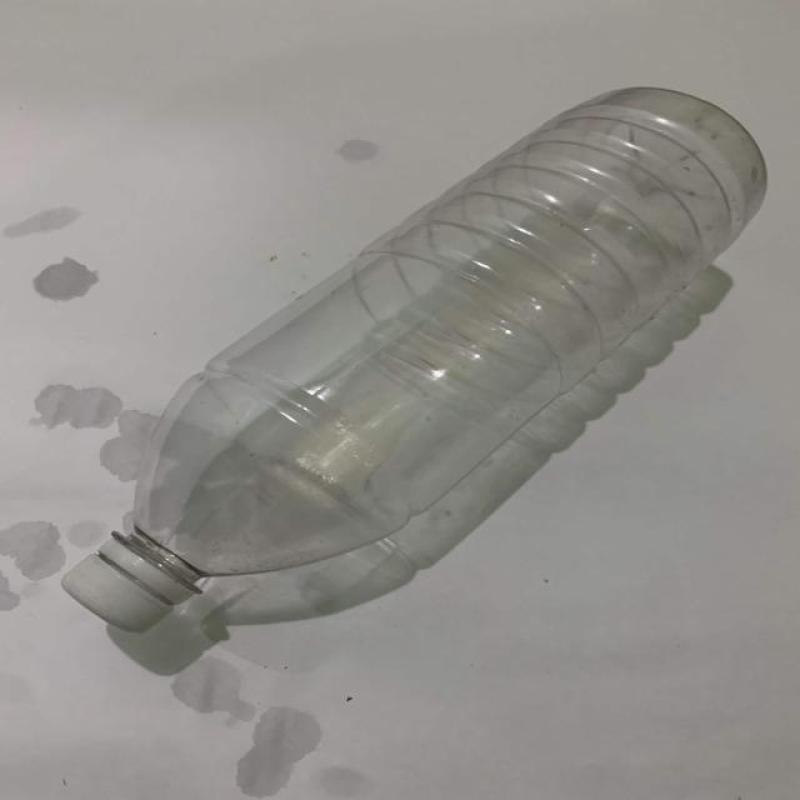botella: (62, 85, 767, 639)
